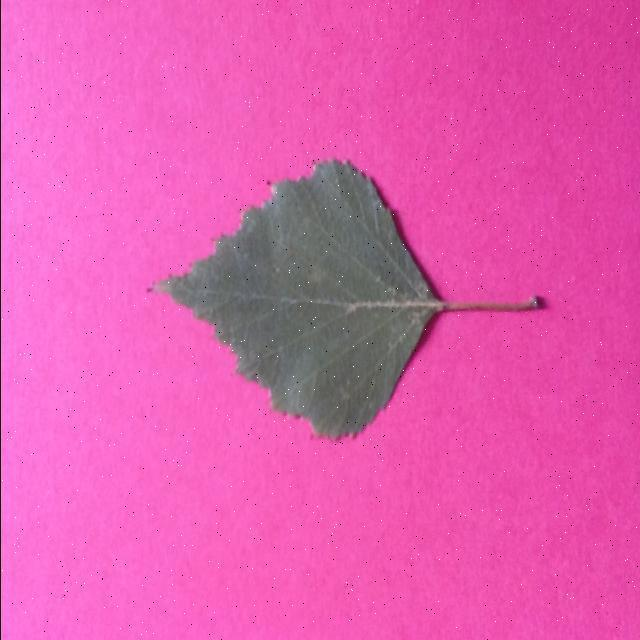foliage: (138, 158, 552, 455)
